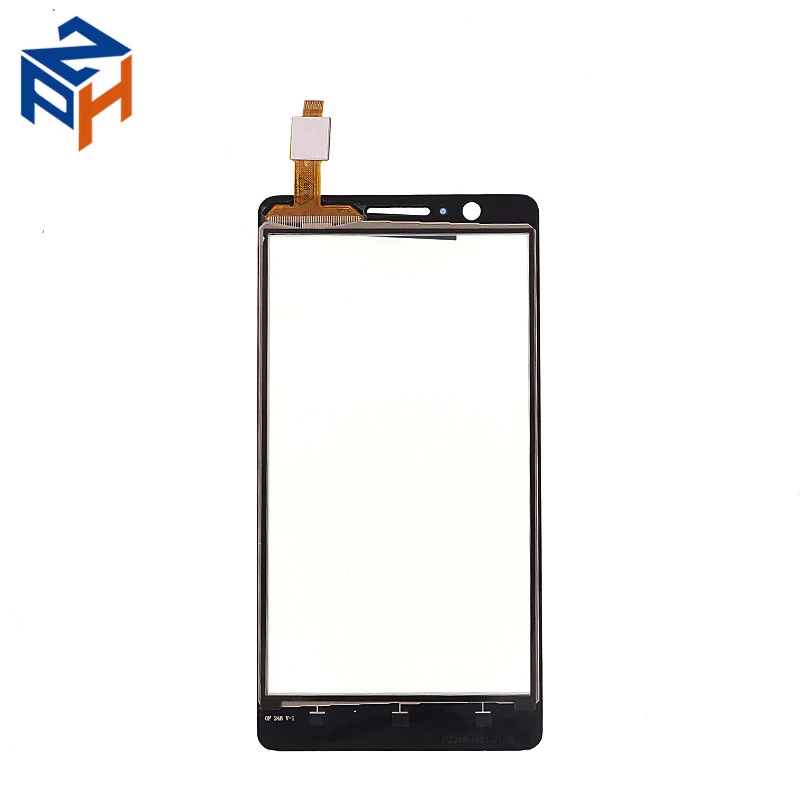Phone: (253, 94, 547, 758)
